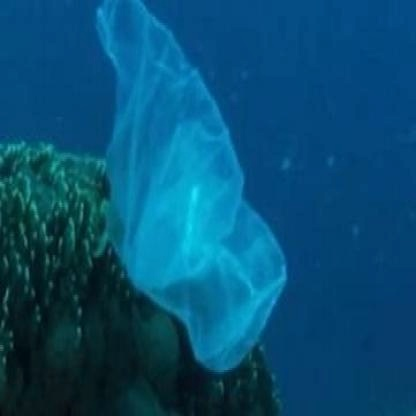plastic: (98, 34, 298, 351)
